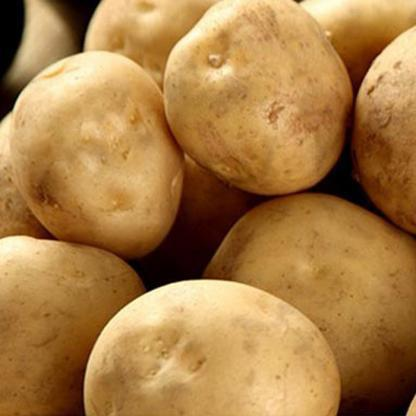potato: (76, 260, 360, 415), (6, 26, 196, 257), (167, 0, 363, 191), (332, 11, 416, 219)
